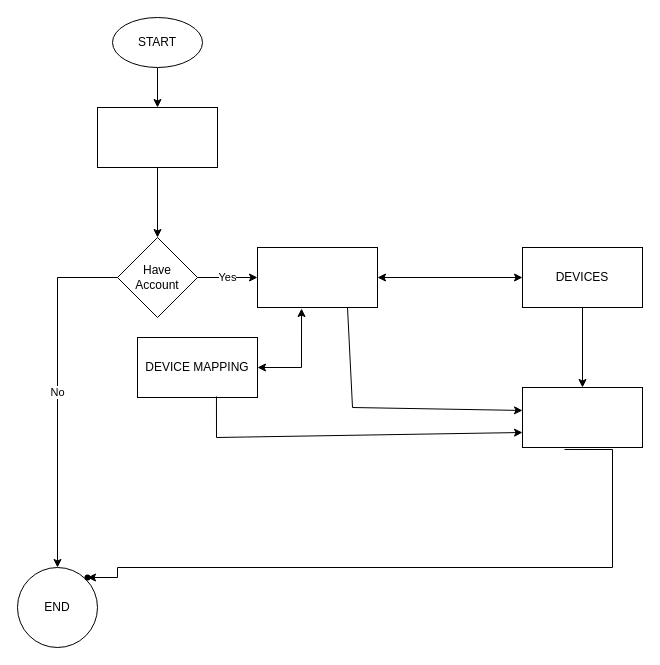
The diagram is 660 pixels wide and 665 high, and some of its shapes have lost their labels. Each missing label, with the centre of its shape:
DASHBOARD: (x=317, y=277)
HOME: (x=157, y=137)
LOGOUT: (x=582, y=417)
